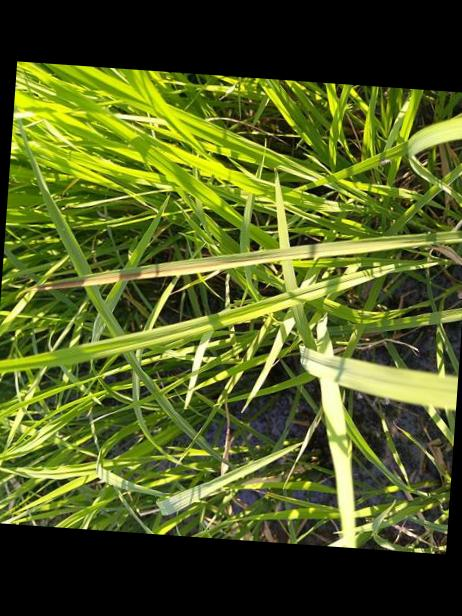Leaf Streak: (36, 238, 421, 290)
